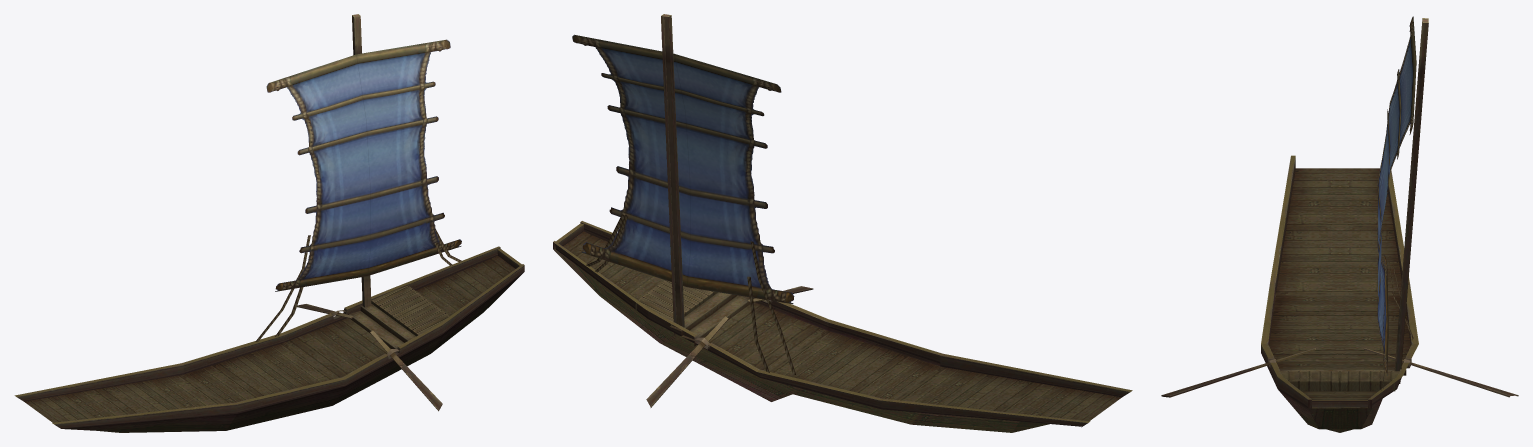
The model's file is zc_erhai_xiaochuan.FBX.
3 views of the same model, side by side, from view 1: azimuth 30°, elevation 25°; view 2: azimuth 150°, elevation 25°; view 3: azimuth 270°, elevation 25° (orthographic). The views are drawn at different scales.
Visible parts, largest first — view 1: zc_erhai_xiaochuan; view 2: zc_erhai_xiaochuan; view 3: zc_erhai_xiaochuan.
Boxes of the visible parts, bbox=[...] form: zc_erhai_xiaochuan: bbox=[14, 14, 524, 432]; zc_erhai_xiaochuan: bbox=[553, 14, 1132, 432]; zc_erhai_xiaochuan: bbox=[1161, 16, 1518, 432].
Bounding box in the file's own units: 930 × 634 × 483.
